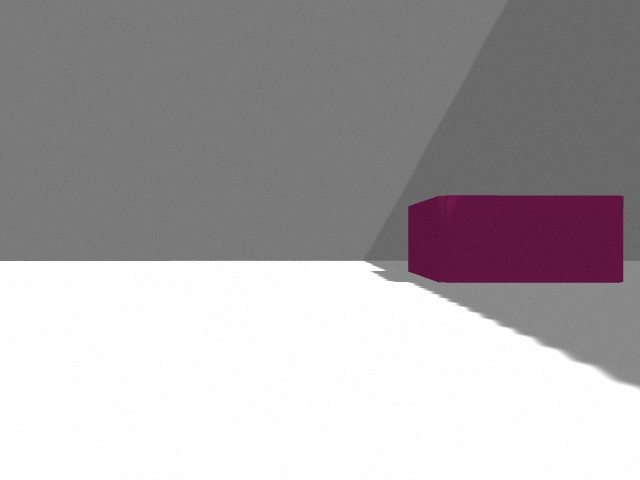red_drop_zone: (408, 195, 624, 283)
